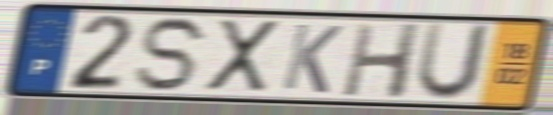2: (65, 12, 137, 92)
H: (338, 21, 425, 102)
K: (277, 21, 346, 97)
S: (132, 14, 214, 94)
U: (412, 20, 497, 104)
X: (204, 17, 283, 95)
